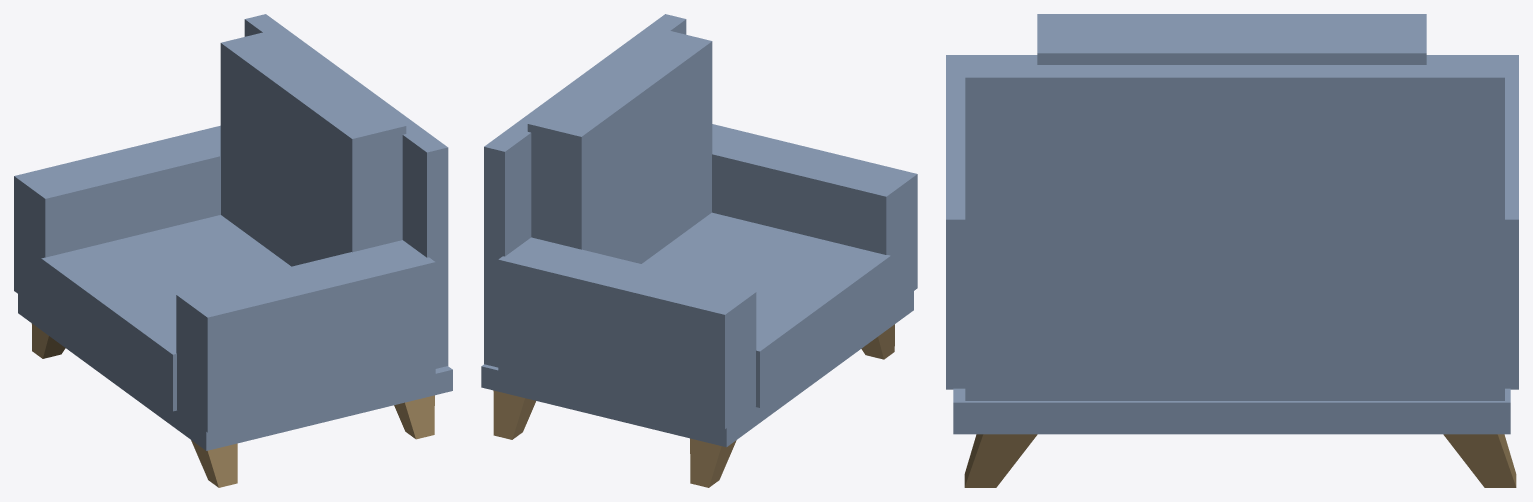
Rendered from M_Sillon Pequeno1.fbx.
3 views of the same model, side by side, from view 1: azimuth 30°, elevation 25°; view 2: azimuth 150°, elevation 25°; view 3: azimuth 270°, elevation 25° (orthographic). The views are drawn at different scales.
Parts seen in each view (by area): view 1: pCube7, pCube25, pCube1, pCube5, pCube8, pCube10, pCube15, pCube14, pCube11; view 2: pCube5, pCube25, pCube1, pCube7, pCube8, pCube10, pCube11, pCube12, pCube15; view 3: pCube8, pCube25, pCube10, pCube7, pCube5, pCube12, pCube14.
Part boxes in pixels (<box>): pCube7: <box>176,240,435,432</box>; pCube25: <box>220,29,406,266</box>; pCube1: <box>41,215,290,411</box>; pCube5: <box>14,125,220,310</box>; pCube8: <box>244,14,448,368</box>; pCube10: <box>18,294,452,450</box>; pCube15: <box>191,440,237,487</box>; pCube14: <box>394,395,434,439</box>; pCube11: <box>31,323,65,358</box>; pCube5: <box>498,237,756,428</box>; pCube25: <box>527,28,712,263</box>; pCube1: <box>642,212,890,407</box>; pCube7: <box>712,124,917,307</box>; pCube8: <box>484,14,686,367</box>; pCube10: <box>481,291,913,447</box>; pCube11: <box>690,438,736,487</box>; pCube12: <box>493,390,535,439</box>; pCube15: <box>861,324,894,359</box>; pCube8: <box>965,62,1504,400</box>; pCube25: <box>1037,14,1426,64</box>; pCube10: <box>953,388,1510,434</box>; pCube7: <box>946,55,1037,389</box>; pCube5: <box>1426,55,1518,389</box>; pCube12: <box>1443,434,1516,487</box>; pCube14: <box>964,434,1037,487</box>.
Bounding box in the file's own units: 11.55 × 12.81 × 15.39.
